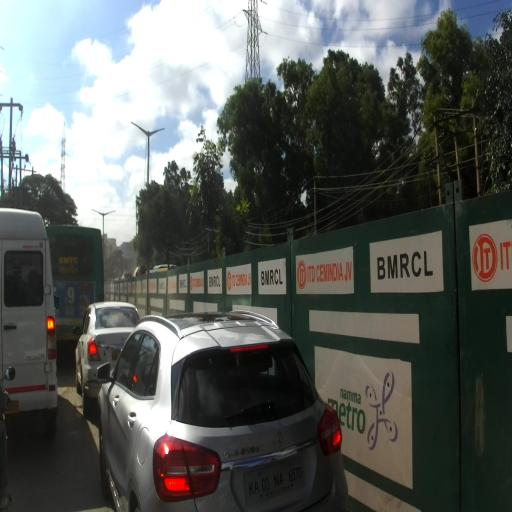street_light_0: (130, 122, 150, 138), (147, 128, 165, 139), (91, 209, 104, 217), (103, 211, 116, 217)
